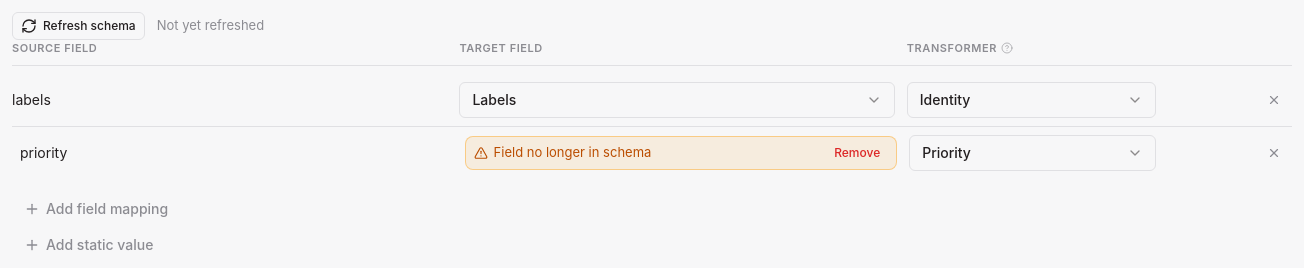
Scenario: FieldMappingSectionHeader — refresh › [DISC-05] while refreshing, button has aria-busy=true and is disabled
The image size is (1304, 268).
Click the button with test id "refresh-schema-btn" at [78, 26], box [12,12,145,40]
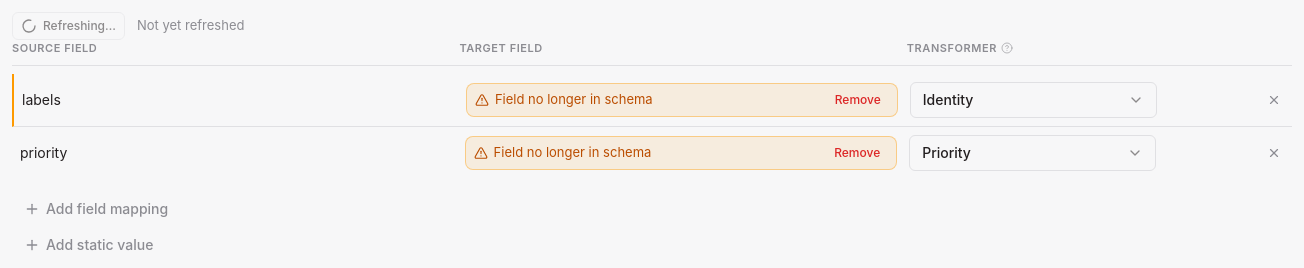
Check: the button with test id "refresh-schema-btn" is disabled, box [12,12,125,40]
